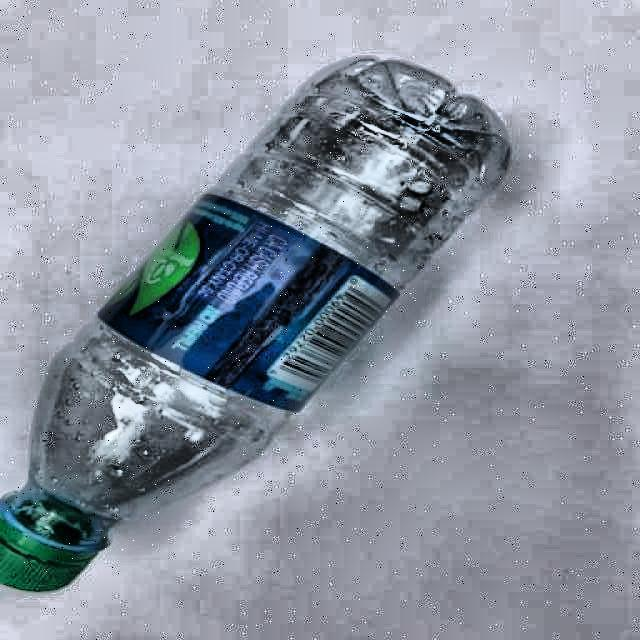plastic: (0, 58, 510, 591)
